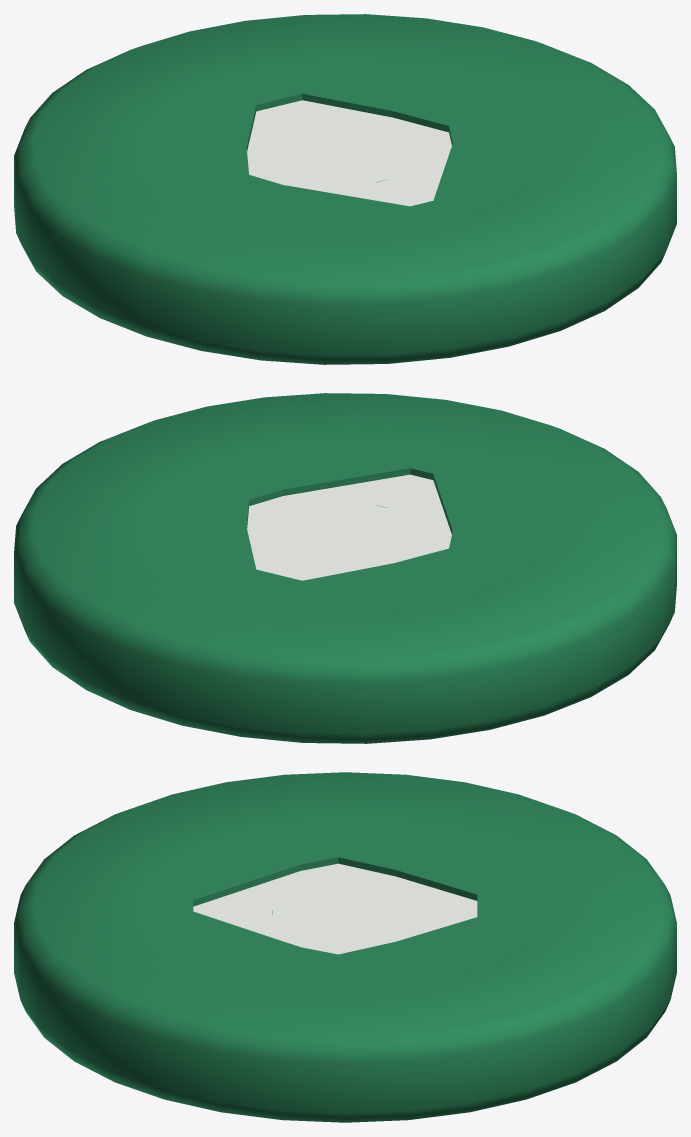
Rendered from splendor-token.glb.
The picture shows the model from 3 angles, top to bottom: view 1: azimuth 30°, elevation 25°; view 2: azimuth 150°, elevation 25°; view 3: azimuth 270°, elevation 25°; orthographic projection.
Parts seen in each view (by area): view 1: GEO-token_body_black, GEO-token_body_red, GEO-token_body_gold, GEO-cut_jewel_black, GEO-token_body_blue, GEO-token_body_white, GEO-cut_jewel_blue, GEO-cut_jewel_white, GEO-cut_jewel_gold, GEO-token_body_green, GEO-cut_jewel_green, GEO-cut_jewel_red; view 2: GEO-token_body_black, GEO-token_body_red, GEO-token_body_green, GEO-cut_jewel_black, GEO-token_body_gold, GEO-token_body_white, GEO-token_body_blue, GEO-cut_jewel_gold, GEO-cut_jewel_green, GEO-cut_jewel_red, GEO-cut_jewel_white, GEO-cut_jewel_blue; view 3: GEO-token_body_black, GEO-token_body_blue, GEO-token_body_red, GEO-token_body_gold, GEO-token_body_white, GEO-token_body_green, GEO-cut_jewel_gold, GEO-cut_jewel_blue, GEO-cut_jewel_black, GEO-cut_jewel_white, GEO-cut_jewel_green, GEO-cut_jewel_red.
Boxes of the visible parts, <box> form: GEO-token_body_black: <box>14,14,676,364</box>; GEO-token_body_red: <box>149,63,542,231</box>; GEO-token_body_gold: <box>222,63,543,232</box>; GEO-cut_jewel_black: <box>251,100,450,206</box>; GEO-token_body_blue: <box>144,62,547,232</box>; GEO-token_body_white: <box>145,66,547,233</box>; GEO-cut_jewel_blue: <box>248,100,451,205</box>; GEO-cut_jewel_white: <box>249,101,421,205</box>; GEO-cut_jewel_gold: <box>248,100,443,205</box>; GEO-token_body_green: <box>144,62,547,232</box>; GEO-cut_jewel_green: <box>249,102,446,199</box>; GEO-cut_jewel_red: <box>247,106,451,180</box>; GEO-token_body_black: <box>14,393,676,743</box>; GEO-token_body_red: <box>182,442,545,608</box>; GEO-token_body_green: <box>143,441,543,612</box>; GEO-cut_jewel_black: <box>249,474,449,580</box>; GEO-token_body_gold: <box>176,441,545,600</box>; GEO-token_body_white: <box>154,441,547,609</box>; GEO-token_body_blue: <box>143,441,546,612</box>; GEO-cut_jewel_gold: <box>251,477,449,580</box>; GEO-cut_jewel_green: <box>252,480,451,566</box>; GEO-cut_jewel_red: <box>247,475,450,553</box>; GEO-cut_jewel_white: <box>247,476,451,577</box>; GEO-cut_jewel_blue: <box>254,476,451,580</box>; GEO-token_body_black: <box>14,772,676,1122</box>; GEO-token_body_blue: <box>158,826,547,990</box>; GEO-token_body_red: <box>145,827,543,984</box>; GEO-token_body_gold: <box>143,827,543,984</box>; GEO-token_body_white: <box>146,820,519,989</box>; GEO-token_body_green: <box>158,826,545,989</box>; GEO-cut_jewel_gold: <box>199,866,477,953</box>; GEO-cut_jewel_blue: <box>196,864,477,943</box>; GEO-cut_jewel_black: <box>193,865,477,949</box>; GEO-cut_jewel_white: <box>202,880,474,953</box>; GEO-cut_jewel_green: <box>224,863,436,954</box>; GEO-cut_jewel_red: <box>201,890,477,948</box>.
Bounding box in the file's own units: 0.98 × 0.14 × 0.98.
